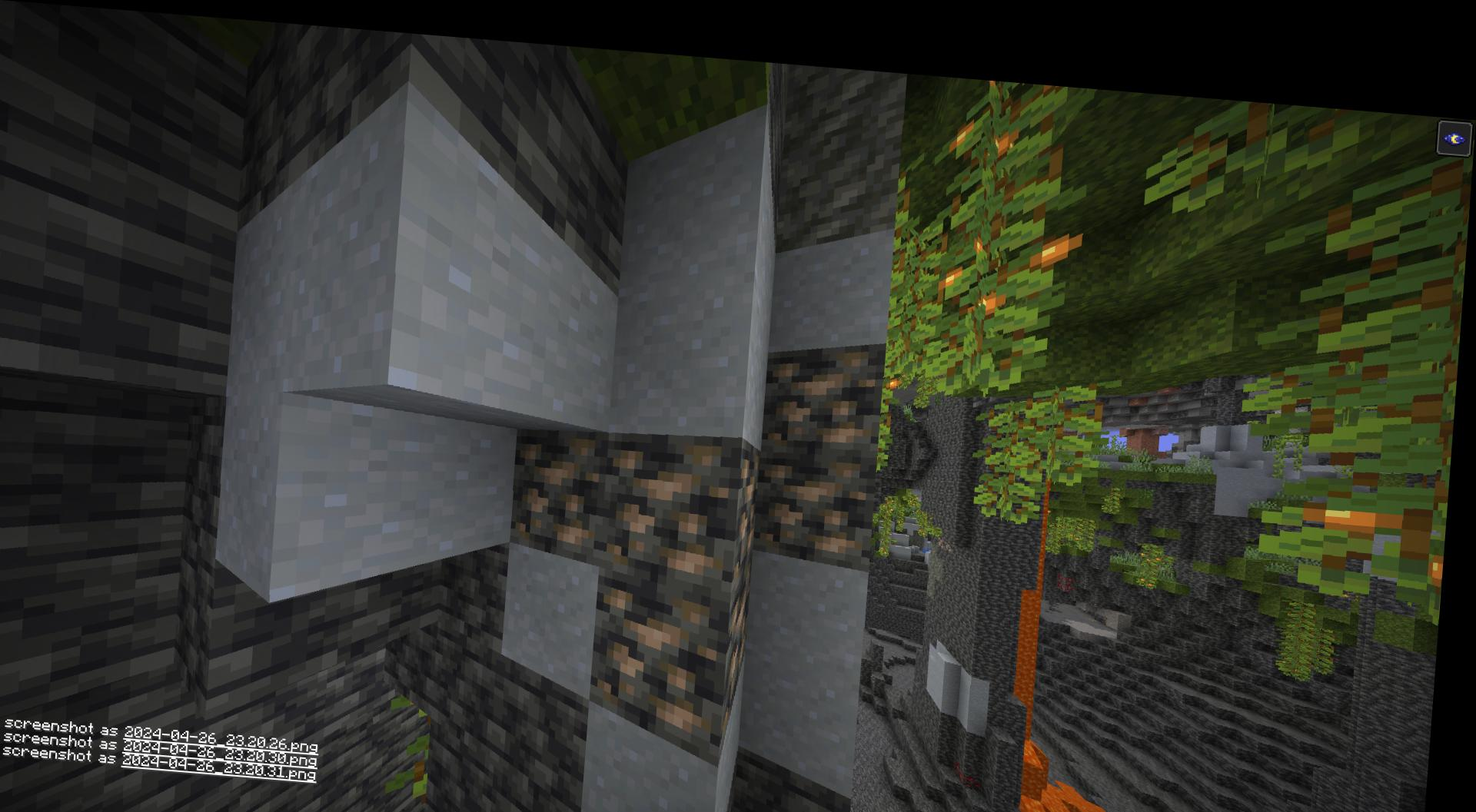iron ore: (597, 569, 729, 722), (608, 426, 745, 562), (773, 327, 888, 441), (762, 439, 877, 543), (517, 418, 611, 545)
